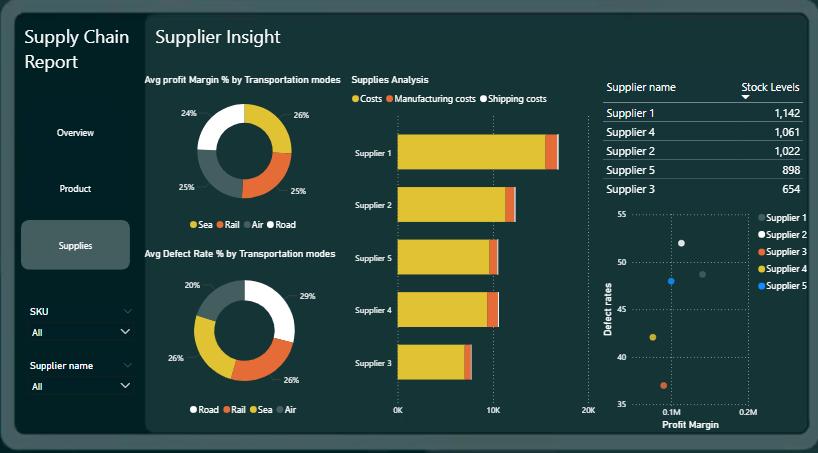

The page's visual inventory and layout, read from the dashboard file:
{"tool":"powerbi","page":{"name":"Supplies","canvas":[1280,720],"ordinal":2},"visuals":[{"type":"donutChart","fields":{"Y":["_measures.Avg profit Margin %"],"Category":["supply_chain_data.Transportation modes"]},"box":[256,144,304,240],"z":0},{"type":"donutChart","fields":{"Category":["supply_chain_data.Transportation modes"],"Y":["_measures.Avg Defect Rate %"]},"box":[256,400,304,256],"z":1000},{"type":"barChart","title":"Supplies Analysis","fields":{"Category":["supply_chain_data.Supplier name"],"Y":["Sum(supply_chain_data.Costs)","Sum(supply_chain_data.Manufacturing costs)","Sum(supply_chain_data.Shipping costs)"]},"box":[560,144,368,512],"z":2000},{"type":"tableEx","fields":{"Values":["supply_chain_data.Supplier name","_measures.Stock Levels"]},"box":[928,144,352,192],"z":3000},{"type":"scatterChart","fields":{"Series":["supply_chain_data.Supplier name"],"Y":["Sum(supply_chain_data.Defect rates)"],"X":["Sum(supply_chain_data.Profit Margin)"]},"box":[928,336,320,336],"z":4000},{"type":"textbox","box":[272,64,400,48],"z":5000},{"type":"pageNavigator","box":[80,192,160,240],"z":6000},{"type":"slicer","fields":{"Values":["supply_chain_data.SKU"]},"box":[80,480,176,64],"z":7000},{"type":"slicer","fields":{"Values":["supply_chain_data.Supplier name"]},"box":[80,560,176,64],"z":8000},{"type":"textbox","box":[80,64,192,96],"z":9000}]}

Visuals, with their boxes in screenshot pixels (x1, y1, x2, y2), scaled from the page's 1280x720 canvas onto the 818x453 screenshot:
donutChart - _measures.Avg profit Margin % x supply_chain_data.Transportation modes: bbox(164, 91, 358, 242)
donutChart - supply_chain_data.Transportation modes x _measures.Avg Defect Rate %: bbox(164, 252, 358, 413)
"Supplies Analysis" barChart: bbox(358, 91, 593, 413)
tableEx - supply_chain_data.Supplier name x _measures.Stock Levels: bbox(593, 91, 817, 211)
scatterChart - supply_chain_data.Supplier name x Sum(supply_chain_data.Defect rates): bbox(593, 211, 798, 423)
textbox: bbox(174, 40, 429, 70)
pageNavigator: bbox(51, 121, 153, 272)
slicer - supply_chain_data.SKU: bbox(51, 302, 164, 342)
slicer - supply_chain_data.Supplier name: bbox(51, 352, 164, 393)
textbox: bbox(51, 40, 174, 101)
